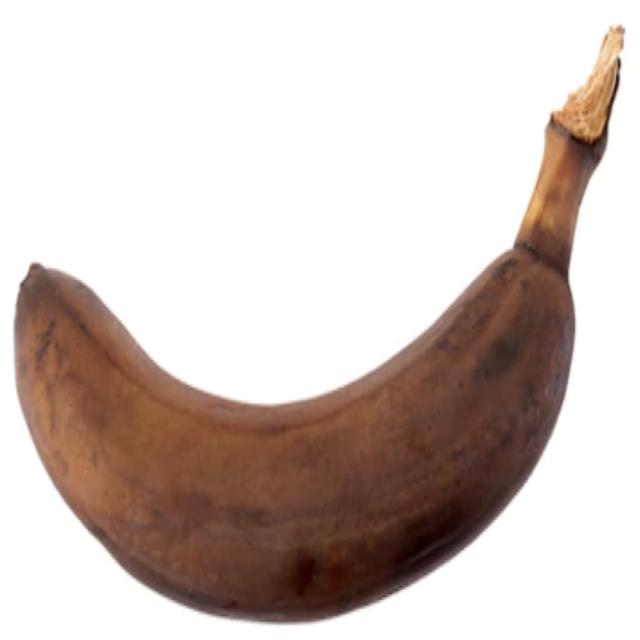rotten-banana: (12, 22, 626, 622)
